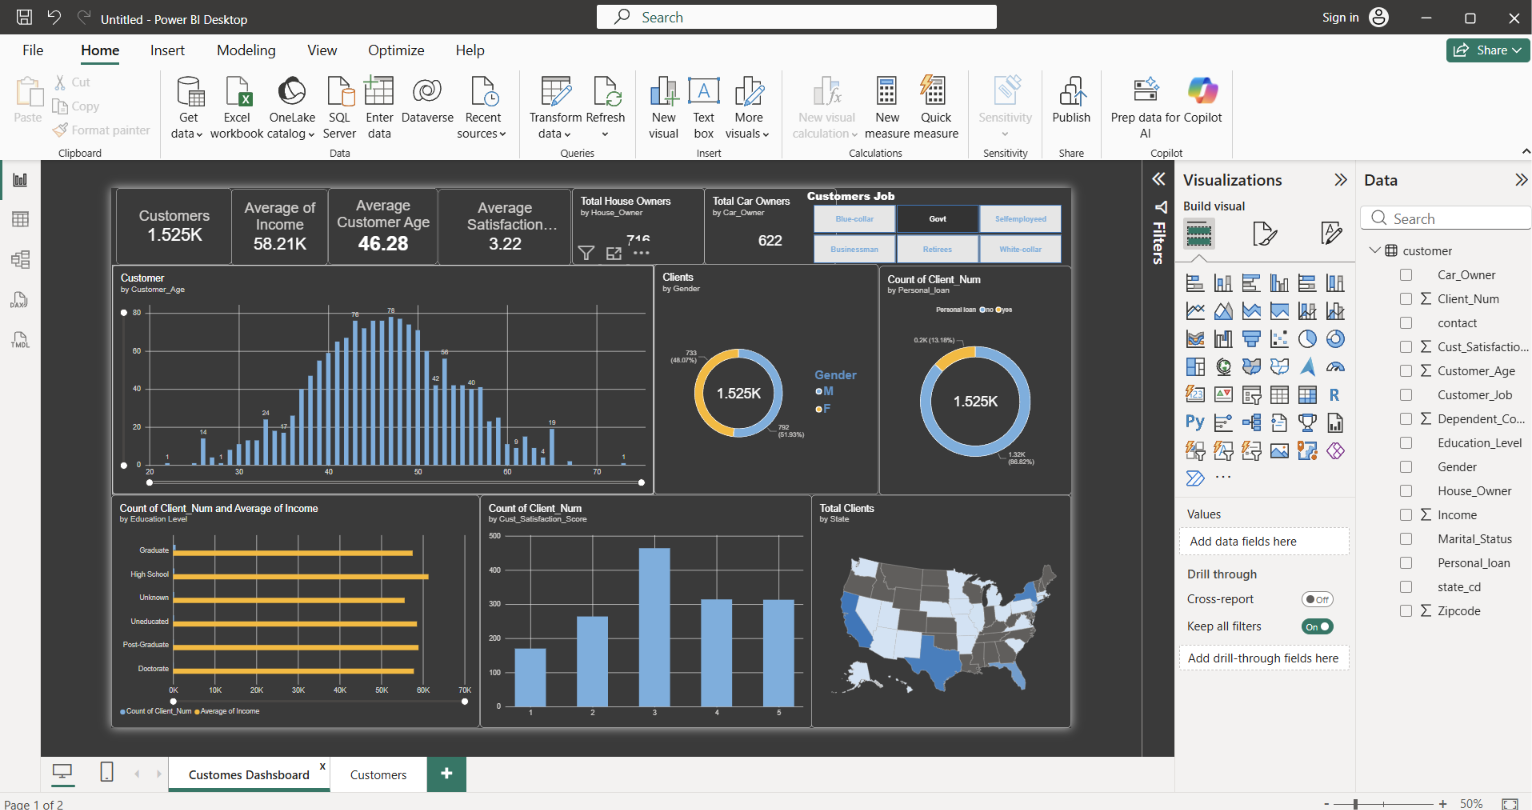

This screenshot's page, from the dashboard's own definition file:
{"tool":"powerbi","page":{"name":"Customes Dashsboard","canvas":[1920,1080],"ordinal":0},"visuals":[{"type":"cardVisual","fields":{"Data":["CountNonNull(customer.Client_Num)"]},"box":[9.4,0,231.5,153.5],"z":0},{"type":"cardVisual","fields":{"Data":["Avg(customer.Income)"]},"box":[240.9,2.4,193.7,153.5],"z":1000},{"type":"textbox","box":[9,615,194,385],"z":2000},{"type":"cardVisual","fields":{"Data":["Avg(customer.Customer_Age)"]},"box":[434.6,0,219.7,153.5],"z":3000},{"type":"cardVisual","fields":{"Data":["Avg(customer.Cust_Satisfaction_Score)"]},"box":[654.3,2.4,266.9,153.5],"z":4000},{"type":"kpi","fields":{"Indicator":["CountNonNull(customer.Client_Num)"],"TrendLine":["customer.Car_Owner"]},"box":[1185.8,0,264.6,153.5],"z":5000},{"type":"kpi","fields":{"Indicator":["CountNonNull(customer.Client_Num)"],"TrendLine":["customer.House_Owner"]},"box":[921.3,0,264.6,153.5],"z":6000},{"type":"clusteredColumnChart","fields":{"Category":["customer.Customer_Age"],"Y":["CountNonNull(customer.Client_Num)"]},"box":[2.4,153.5,1084.3,458.3],"z":7000},{"type":"donutChart","fields":{"Category":["customer.Gender"],"Y":["CountNonNull(customer.Client_Num)"]},"box":[1086.6,151.2,448.8,460.6],"z":8000},{"type":"clusteredBarChart","fields":{"Category":["customer.Education_Level"],"Y":["CountNonNull(customer.Client_Num)","Avg(customer.Income)"]},"box":[0,614.2,737,465.4],"z":9000},{"type":"clusteredColumnChart","fields":{"Category":["customer.Cust_Satisfaction_Score"],"Y":["CountNonNull(customer.Client_Num)"]},"box":[737,614.2,663.8,465.4],"z":10000},{"type":"shapeMap","fields":{"Category":["customer.state_cd"],"Value":["CountNonNull(customer.Client_Num)"]},"box":[1400.8,614.2,519.7,465.4],"z":11000},{"type":"donutChart","fields":{"Category":["customer.Personal_loan"],"Y":["CountNonNull(customer.Client_Num)"]},"box":[1535.4,155.9,385,458.3],"z":12000},{"type":"slicer","fields":{"Values":["customer.Customer_Job"]},"box":[1384,0,536,152],"z":13000}]}

Visuals, with their boxes on the page's 1920x1080 design canvas (x1, y1, x2, y2). These are canvas units, not pixel positions in the 1532x810 screenshot, which may show the page scaled, cropped or inside an application window:
cardVisual - CountNonNull(customer.Client_Num): box=[9, 0, 241, 154]
cardVisual - Avg(customer.Income): box=[241, 2, 435, 156]
textbox: box=[9, 615, 203, 1000]
cardVisual - Avg(customer.Customer_Age): box=[435, 0, 654, 154]
cardVisual - Avg(customer.Cust_Satisfaction_Score): box=[654, 2, 921, 156]
kpi - CountNonNull(customer.Client_Num) x customer.Car_Owner: box=[1186, 0, 1450, 154]
kpi - CountNonNull(customer.Client_Num) x customer.House_Owner: box=[921, 0, 1186, 154]
clusteredColumnChart - customer.Customer_Age x CountNonNull(customer.Client_Num): box=[2, 154, 1087, 612]
donutChart - customer.Gender x CountNonNull(customer.Client_Num): box=[1087, 151, 1535, 612]
clusteredBarChart - customer.Education_Level x CountNonNull(customer.Client_Num): box=[0, 614, 737, 1080]
clusteredColumnChart - customer.Cust_Satisfaction_Score x CountNonNull(customer.Client_Num): box=[737, 614, 1401, 1080]
shapeMap - customer.state_cd x CountNonNull(customer.Client_Num): box=[1401, 614, 1920, 1080]
donutChart - customer.Personal_loan x CountNonNull(customer.Client_Num): box=[1535, 156, 1920, 614]
slicer - customer.Customer_Job: box=[1384, 0, 1920, 152]
